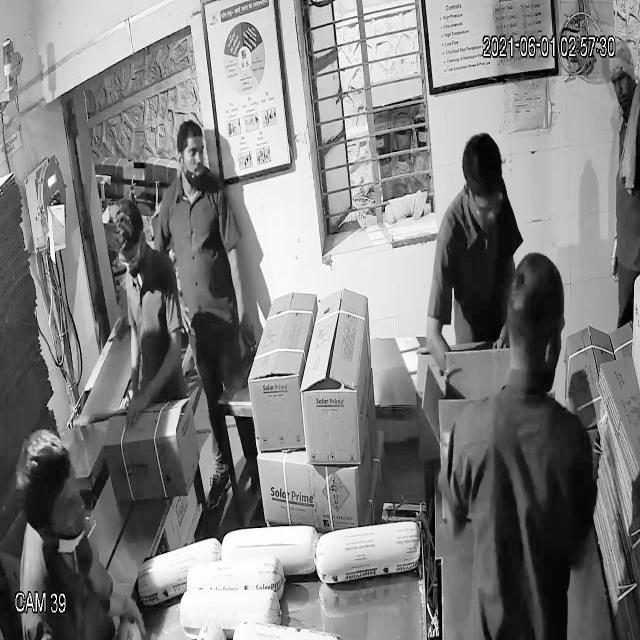glasses: (113, 240, 147, 276)
